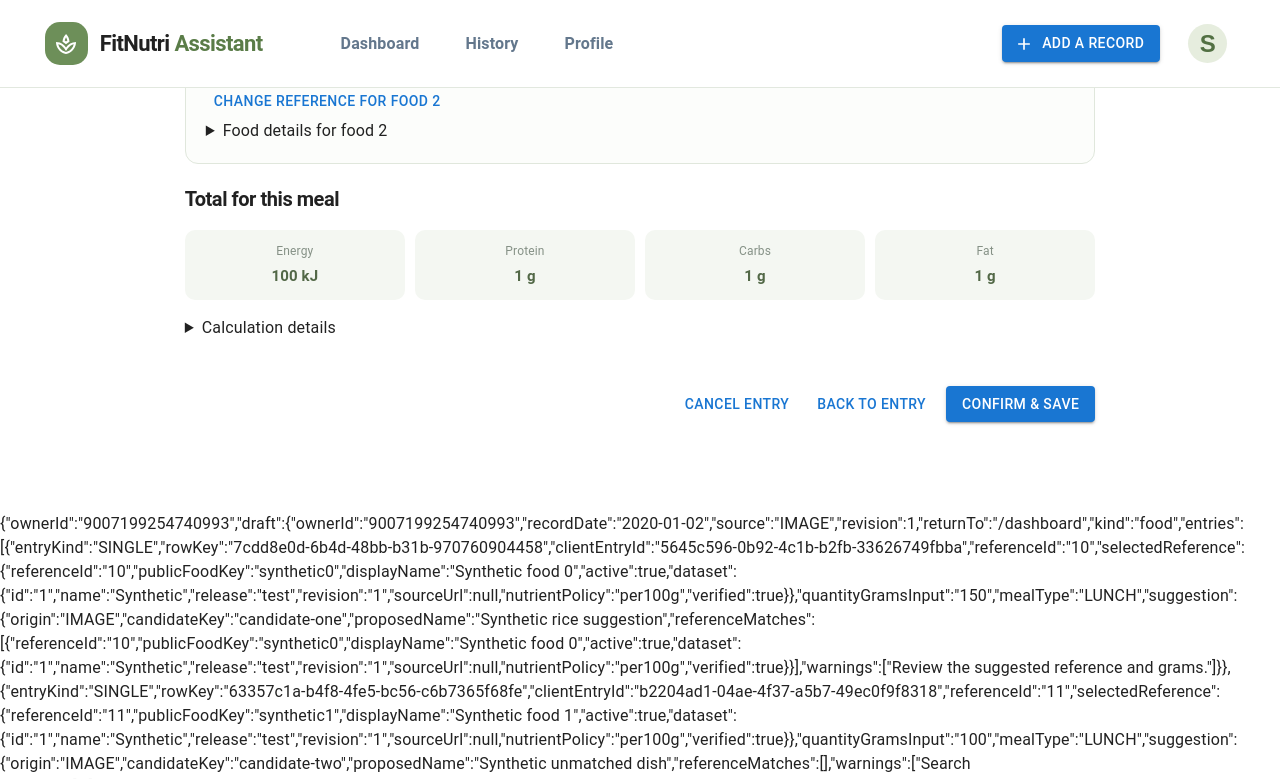
Test: uses shared V2 Review for explicitly selected IMAGE singles,and returns to Dashboard without media restart
(page scrolled)
Click the button "Confirm & save" at (1021, 404), box top-left (946, 386), bottom-right (1095, 422)
(page scrolled)
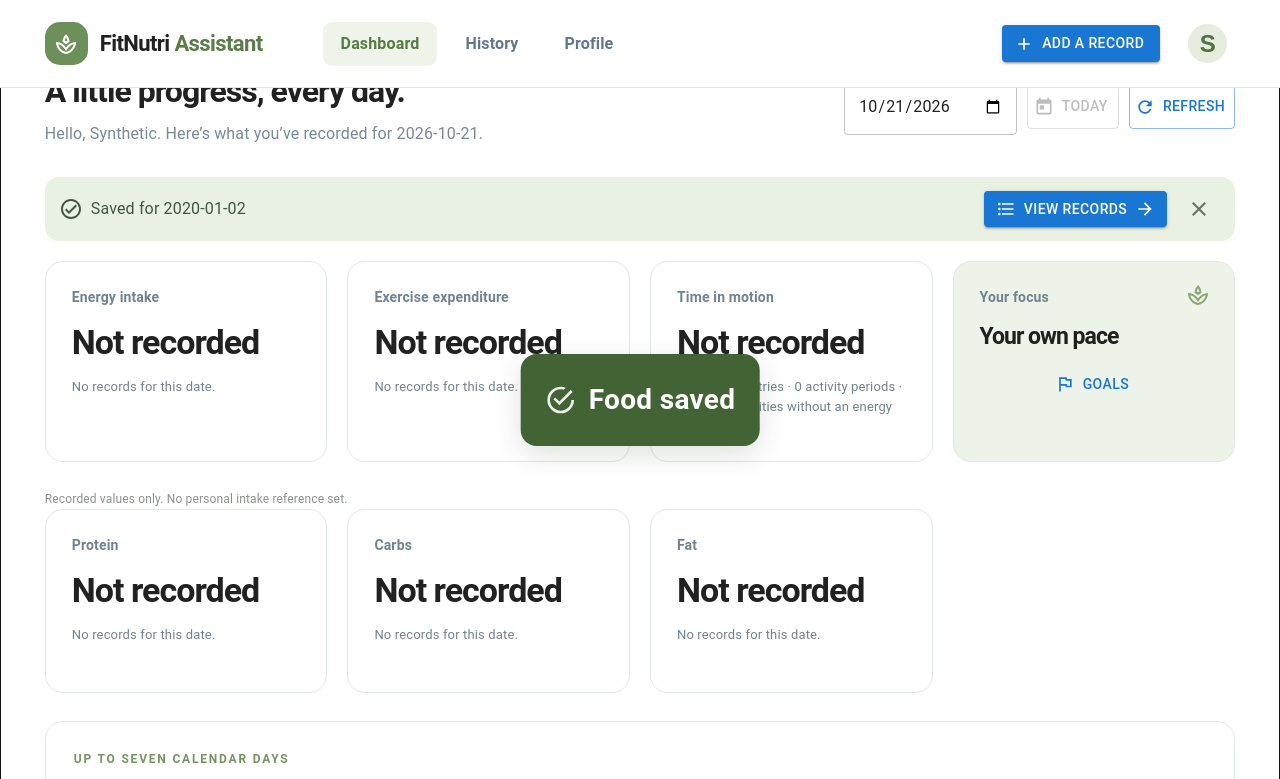
Expected: the heading "A little progress, every day." is shown, top-left (45, 72), bottom-right (405, 110)
